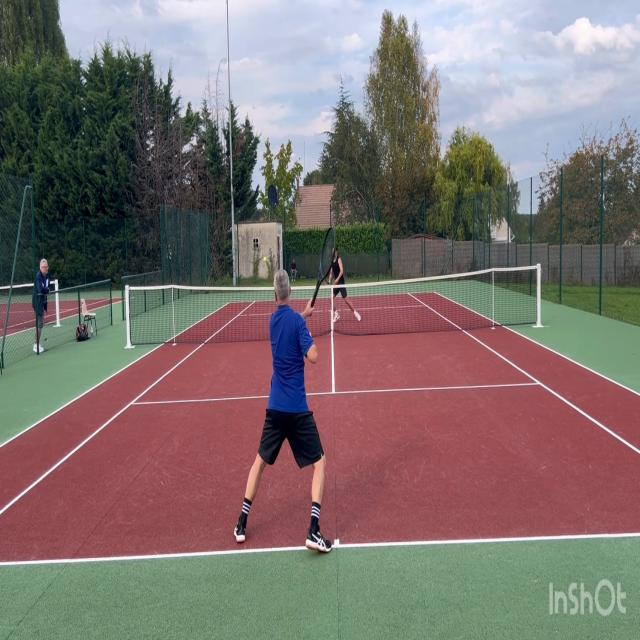ball: (264, 256, 266, 262)
